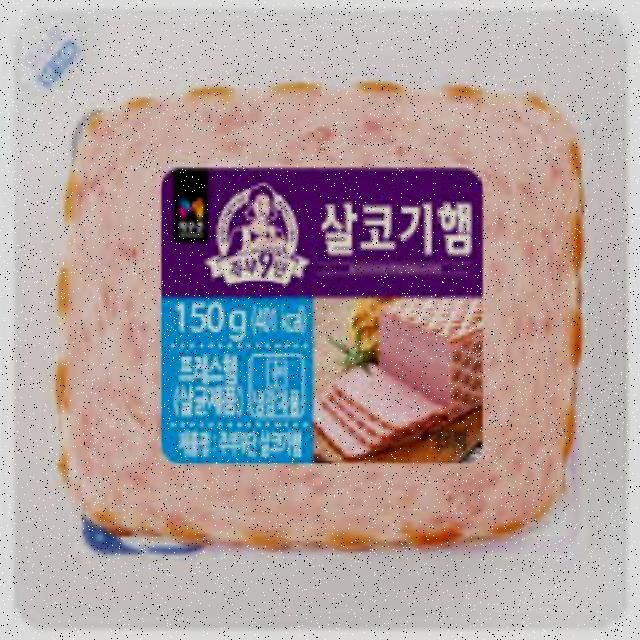Ham: (40, 62, 602, 575)
